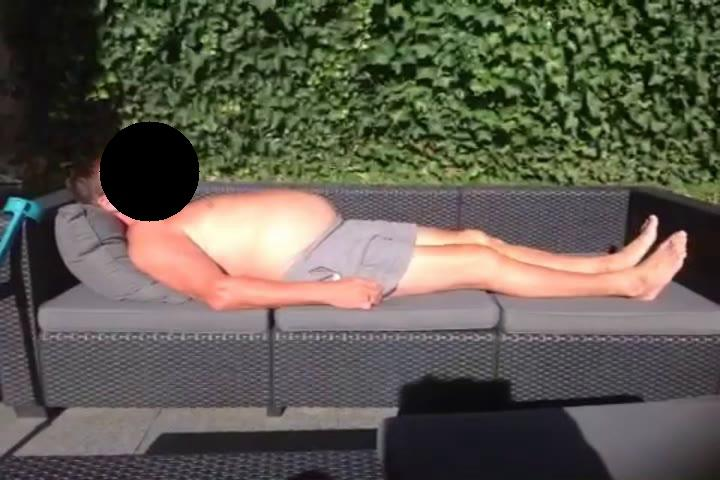lower_body: (313, 211, 691, 305)
